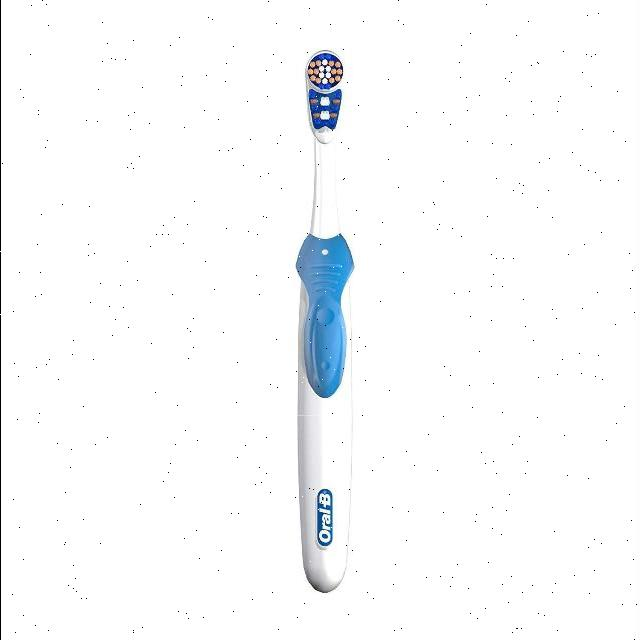toothbrush: (198, 25, 410, 640)
